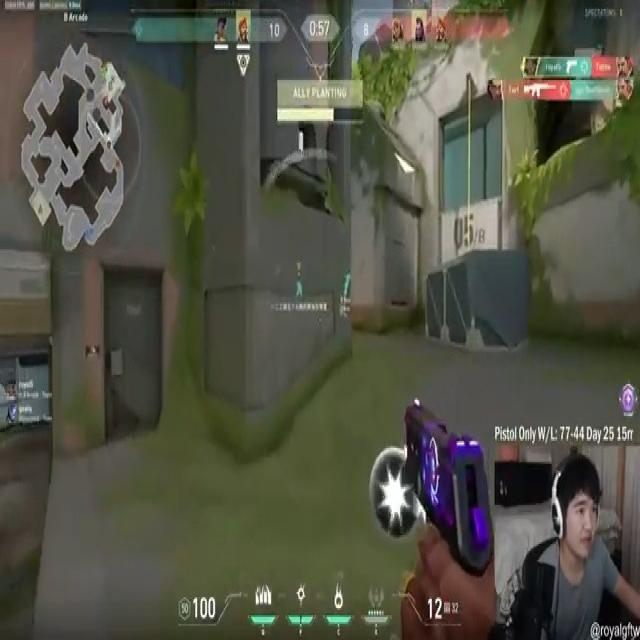ally behind wall: (342, 272, 351, 299), (294, 278, 304, 299)
orb: (370, 452, 418, 538)
